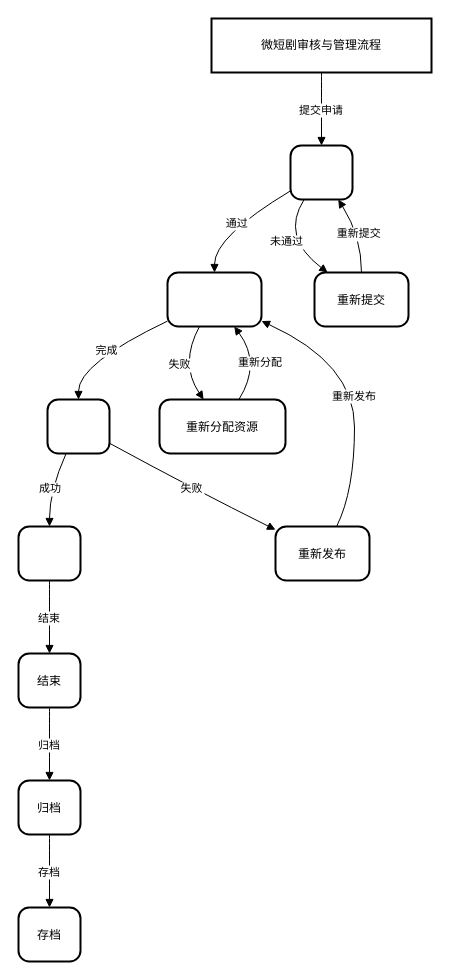
Some shapes in this 449 by 979 pixel diagram are drawn without their labels. The shapes that lost their labels are listed below. From the top down, each one's centre as x and y in pixels, then its label:
At point (321, 172): "审核".
At point (214, 299): "分配资源".
At point (78, 426): "发布".
At point (49, 553): "完结".
